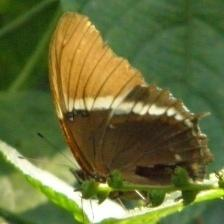butterfly: (50, 13, 214, 184)
